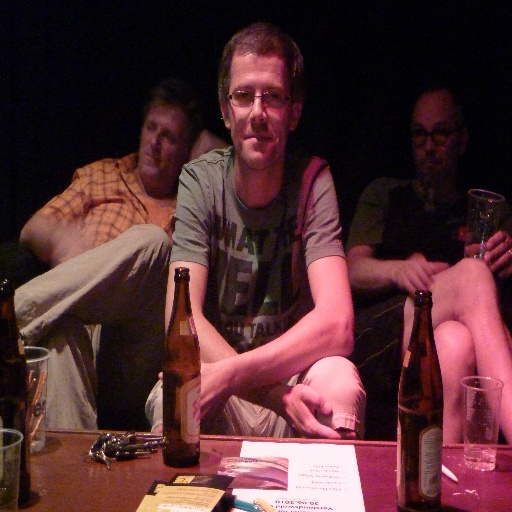hand: (157, 361, 231, 433), (281, 378, 332, 439), (392, 249, 448, 299), (461, 227, 511, 279), (190, 131, 231, 160)
